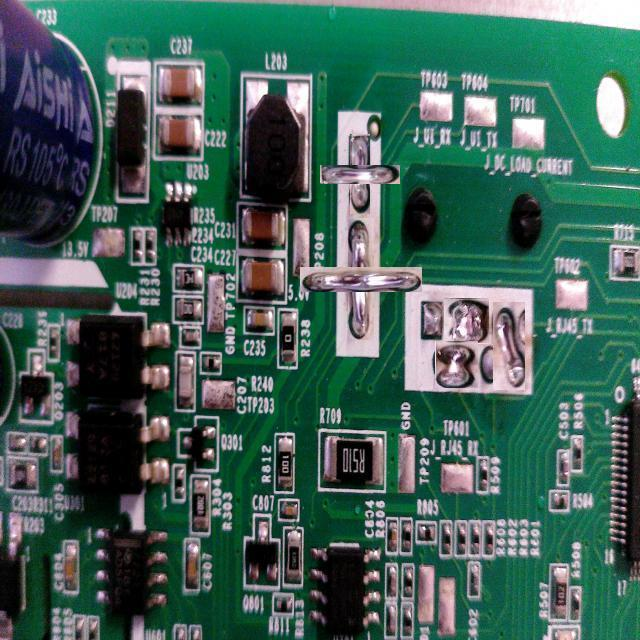Short_circuit: (324, 242, 398, 316), (492, 301, 525, 390), (336, 149, 386, 199), (443, 298, 489, 344), (434, 342, 480, 387)
